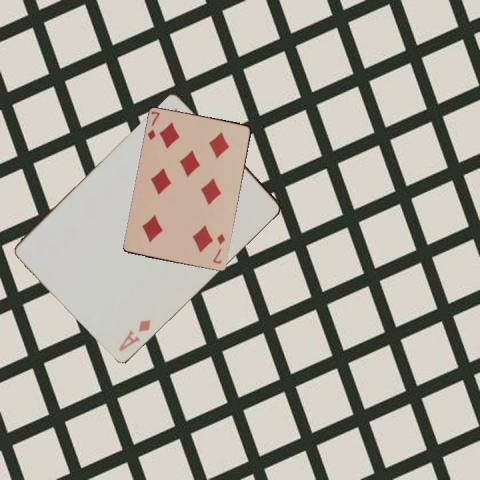7d: (210, 231, 227, 265), (145, 109, 161, 141)
Ad: (115, 316, 153, 353)
